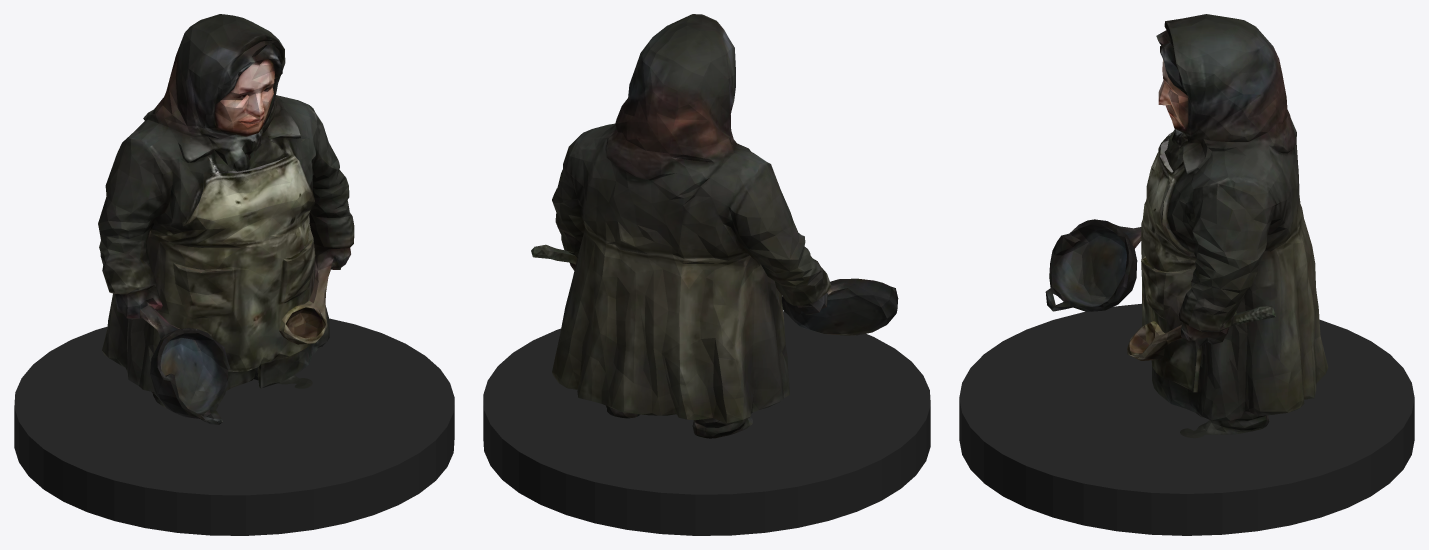
The model's file is loretta-clay.glb.
3 views of the same model, side by side, from view 1: azimuth 30°, elevation 25°; view 2: azimuth 150°, elevation 25°; view 3: azimuth 270°, elevation 25° (orthographic). The views are drawn at different scales.
Parts seen in each view (by area): view 1: figure, base; view 2: figure, base; view 3: base, figure.
Part boxes in pixels (box(x1,y1,x2,y2)): figure: box(98, 14, 354, 424); base: box(14, 318, 454, 535); figure: box(531, 14, 898, 438); base: box(483, 311, 930, 535); base: box(959, 303, 1414, 535); figure: box(1045, 14, 1328, 438).
Size of the model in its own units: 1.18 by 1.22 by 1.18.
Materials: 2 (1 with a texture image).
